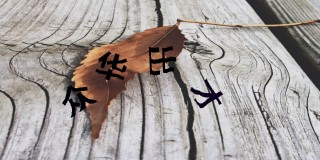众: (62, 85, 97, 118)
出: (148, 47, 177, 77)
华: (96, 50, 127, 81)
才: (190, 80, 223, 110)
